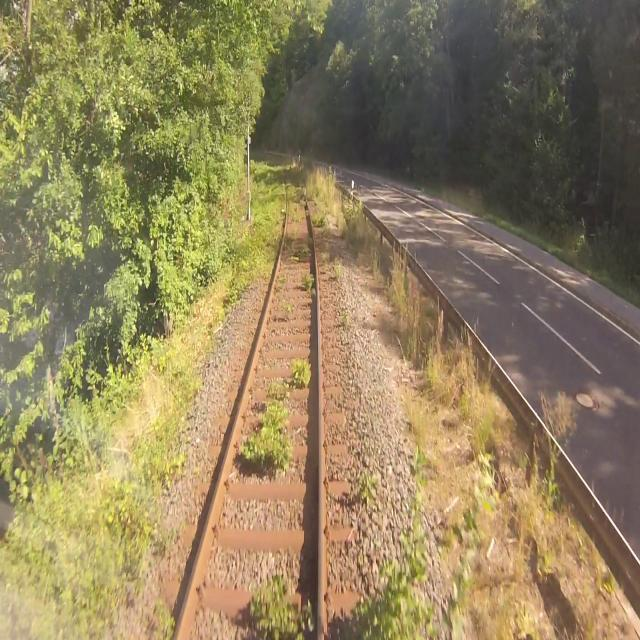Plant: (346, 521, 432, 639), (238, 359, 311, 476), (230, 170, 281, 303), (246, 572, 315, 639), (310, 185, 345, 289), (151, 585, 174, 633), (355, 464, 380, 508), (301, 270, 316, 296), (341, 306, 353, 331)
